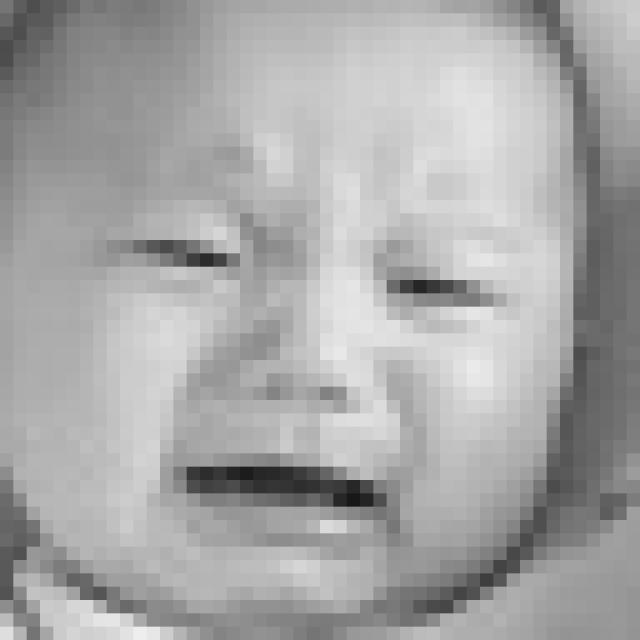sad: (89, 188, 530, 559)
